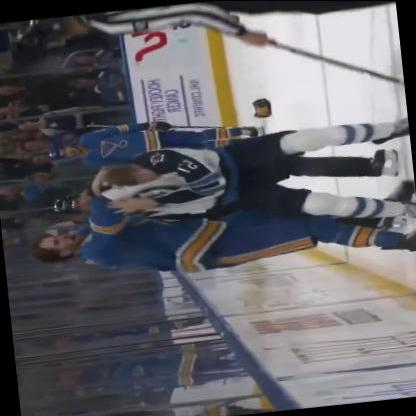non-Voilence: (45, 108, 264, 174)
voilence: (23, 124, 376, 290)
